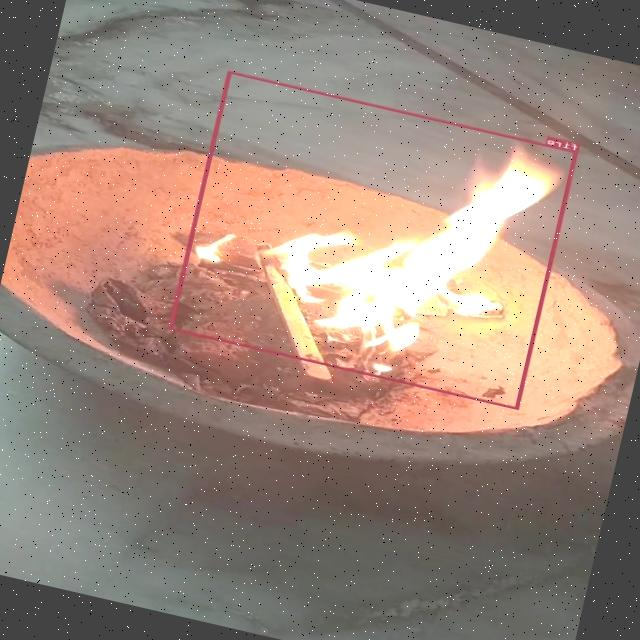fire: (168, 70, 579, 410)
